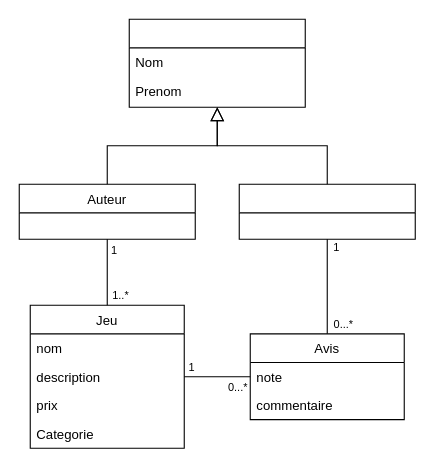
Some shapes in this 435 by 471 pixel diagram are drawn without their labels. Here are the shapes that lost their labels. From the top down, the box of each, then its label:
(128, 18, 305, 107): Personne
(238, 183, 415, 239): User
